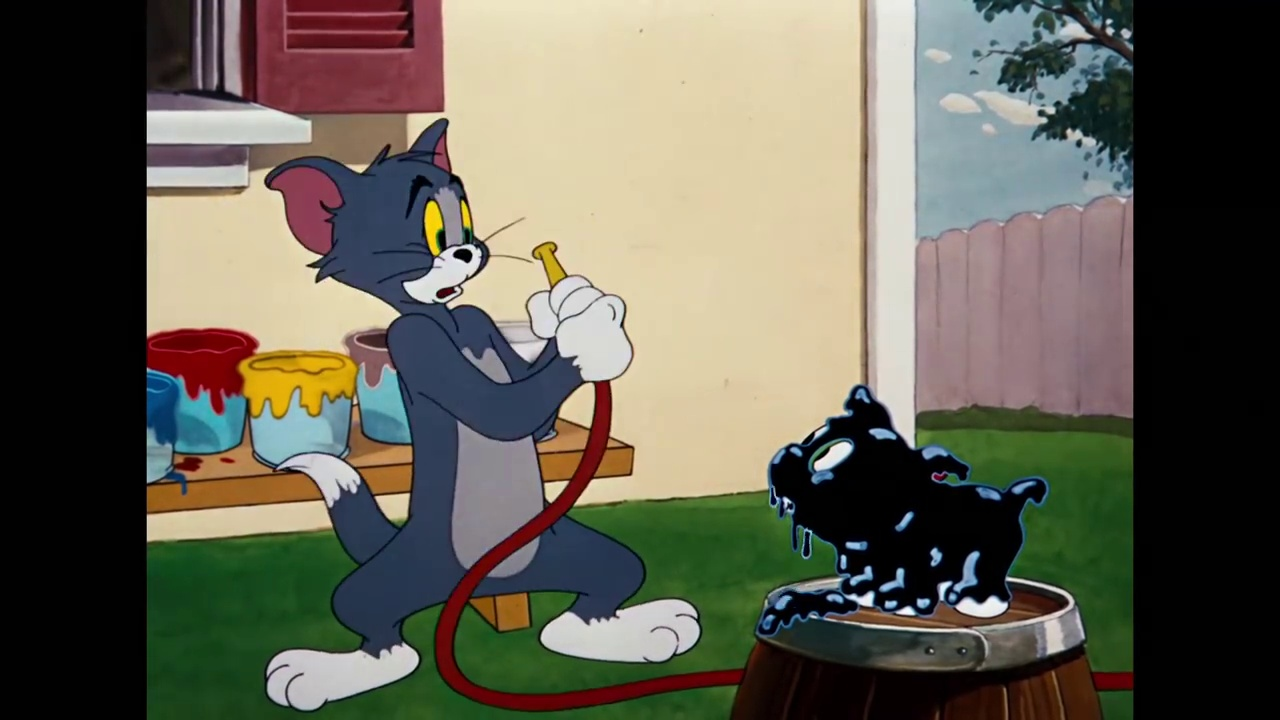tom: (263, 118, 513, 312)
